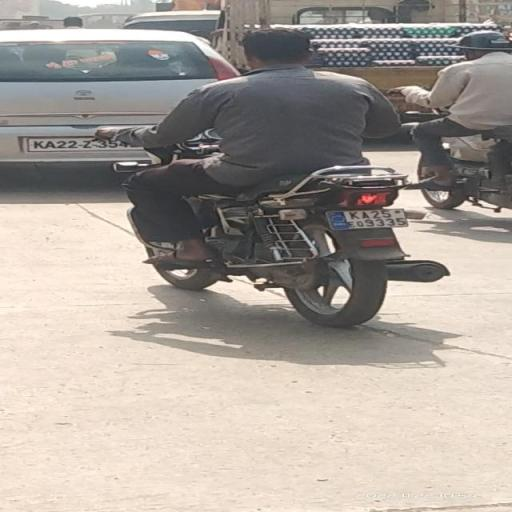bike: (96, 14, 450, 332)
numberplate: (328, 206, 412, 228)
withouthelmet: (246, 28, 312, 68)
